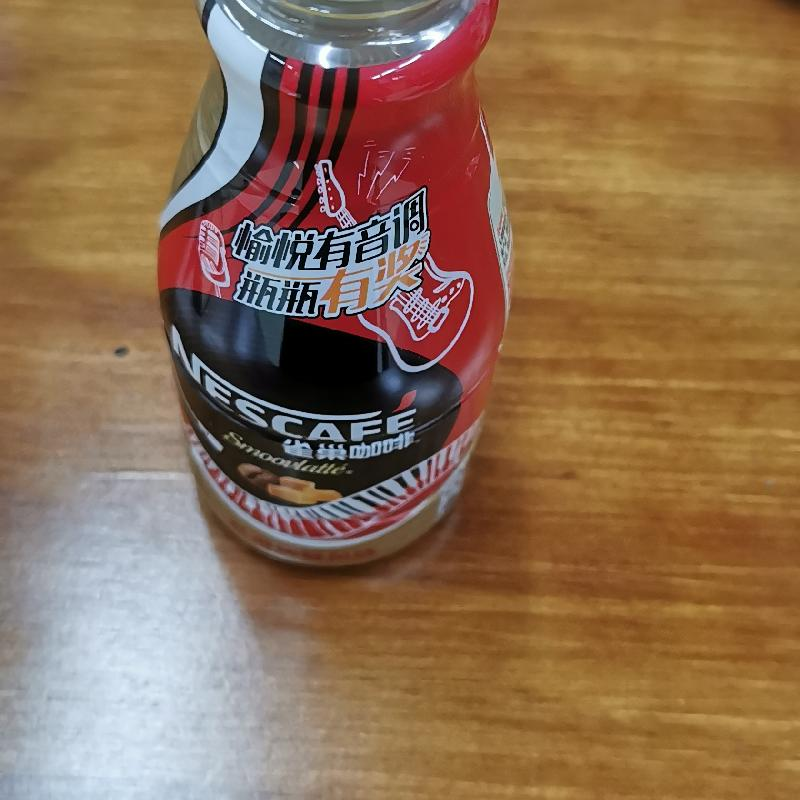bottles: (156, 0, 518, 581)
